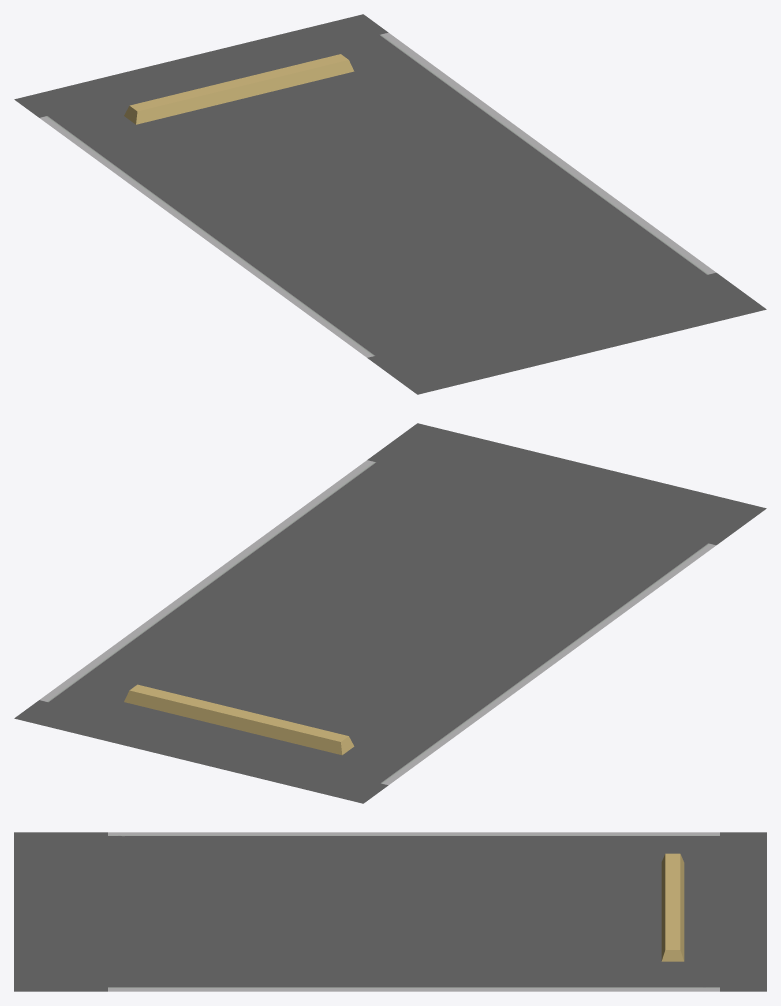
Rendered from SM_parkingSpot_01.glb.
The picture shows the model from 3 angles, top to bottom: view 1: azimuth 30°, elevation 25°; view 2: azimuth 150°, elevation 25°; view 3: azimuth 270°, elevation 25°; orthographic projection. The views are drawn at different scales.
Visible parts, largest first — view 1: SM_parkingSpot_01; view 2: SM_parkingSpot_01; view 3: SM_parkingSpot_01.
Part boxes in pixels (left/top/right/bottom): SM_parkingSpot_01: left=14, top=14, right=766, bottom=394; SM_parkingSpot_01: left=14, top=423, right=766, bottom=803; SM_parkingSpot_01: left=14, top=832, right=766, bottom=991.
Size of the model in its own units: 4 by 0.12 by 8.
Materials: 1 (1 with a texture image).
